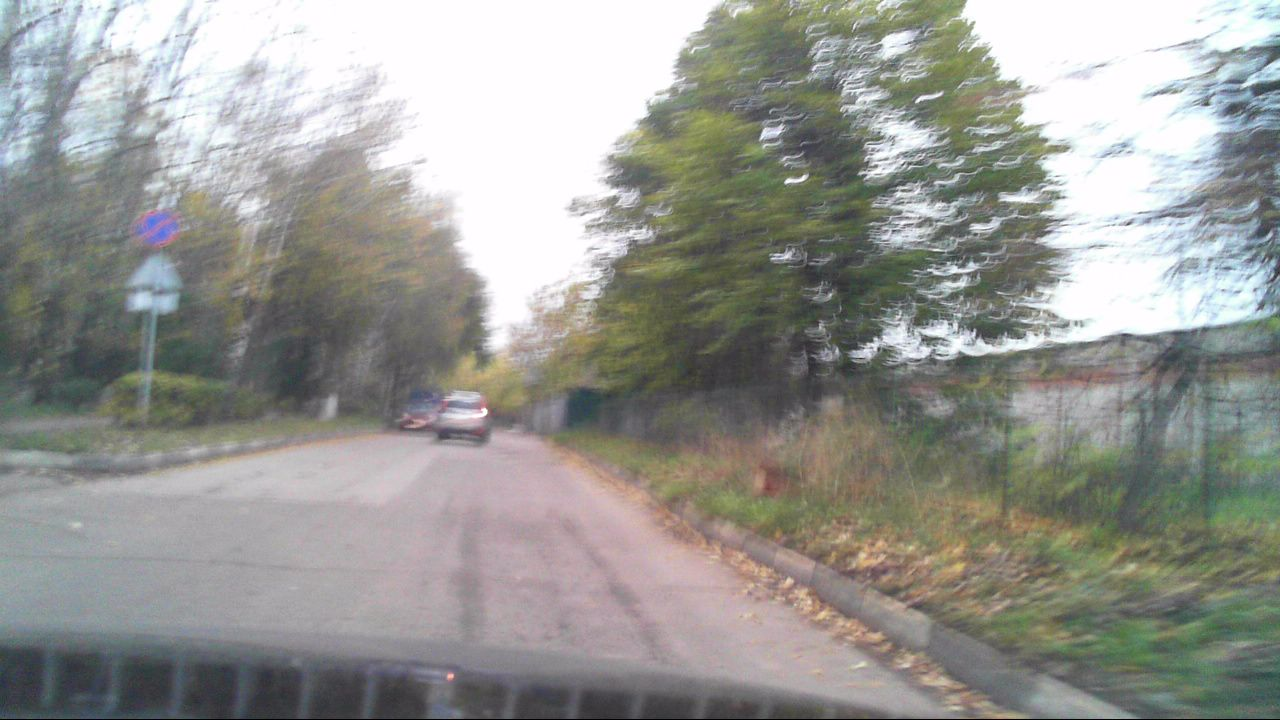No Parking: (133, 208, 177, 251)
